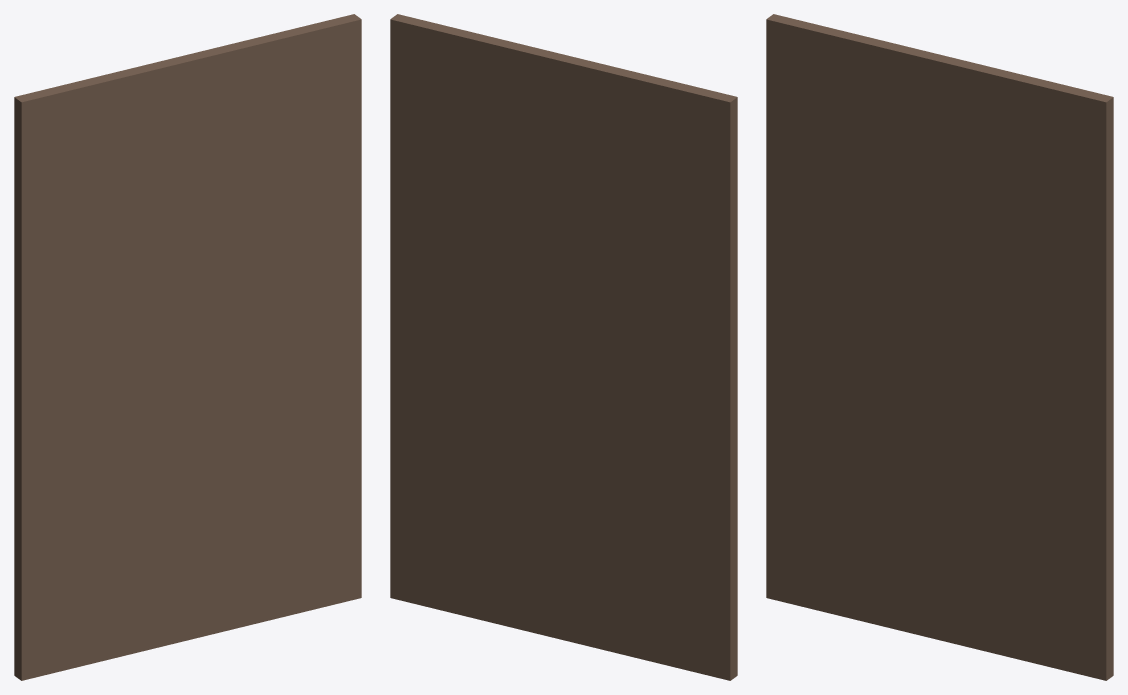
File: prop_shoji.glb
3 renders of one model, left to right at view 1: azimuth 30°, elevation 25°; view 2: azimuth 150°, elevation 25°; view 3: azimuth 330°, elevation 25°, orthographic.
Visible parts, largest first — view 1: shoji; view 2: shoji; view 3: shoji.
Part boxes in pixels (x1=…): shoji: x1=14, y1=14, x2=361, y2=680; shoji: x1=390, y1=14, x2=737, y2=680; shoji: x1=766, y1=14, x2=1113, y2=680.
Size of the model in its own units: 1.6 by 2.6 by 0.06.
